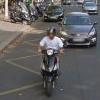Motorcycle: (31, 34, 75, 96)
